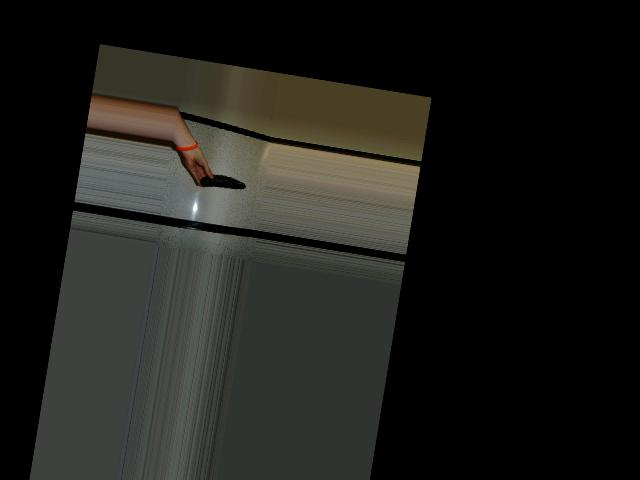cucumber: (199, 172, 247, 193)
